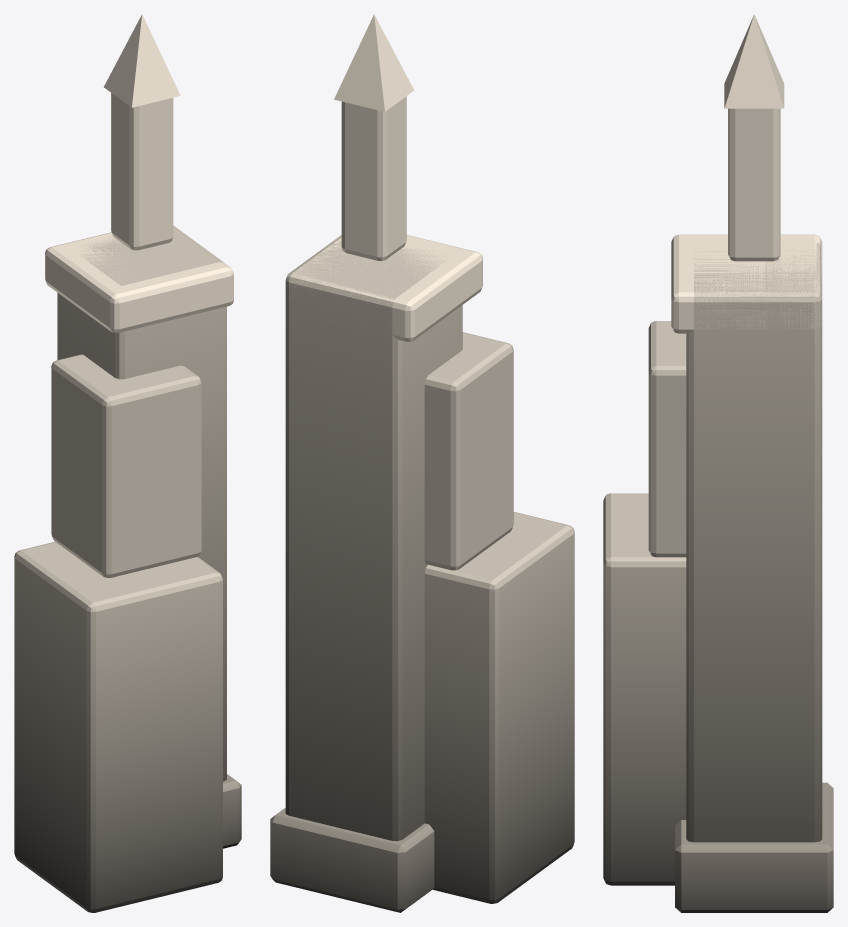
File: SM_VK_Chapel_Corner.fbx
The picture shows the model from 3 angles, left to right: view 1: azimuth 30°, elevation 25°; view 2: azimuth 150°, elevation 25°; view 3: azimuth 270°, elevation 25°; orthographic projection. The views are drawn at different scales.
Parts seen in each view (by area): view 1: SM_VK_Chapel_Corner.001; view 2: SM_VK_Chapel_Corner.001; view 3: SM_VK_Chapel_Corner.001.
Boxes of the visible parts, <box> form: SM_VK_Chapel_Corner.001: <box>14,14,241,912</box>; SM_VK_Chapel_Corner.001: <box>270,14,574,912</box>; SM_VK_Chapel_Corner.001: <box>603,14,833,912</box>.
Bounding box in the file's own units: 1.52 × 6.35 × 1.52.
